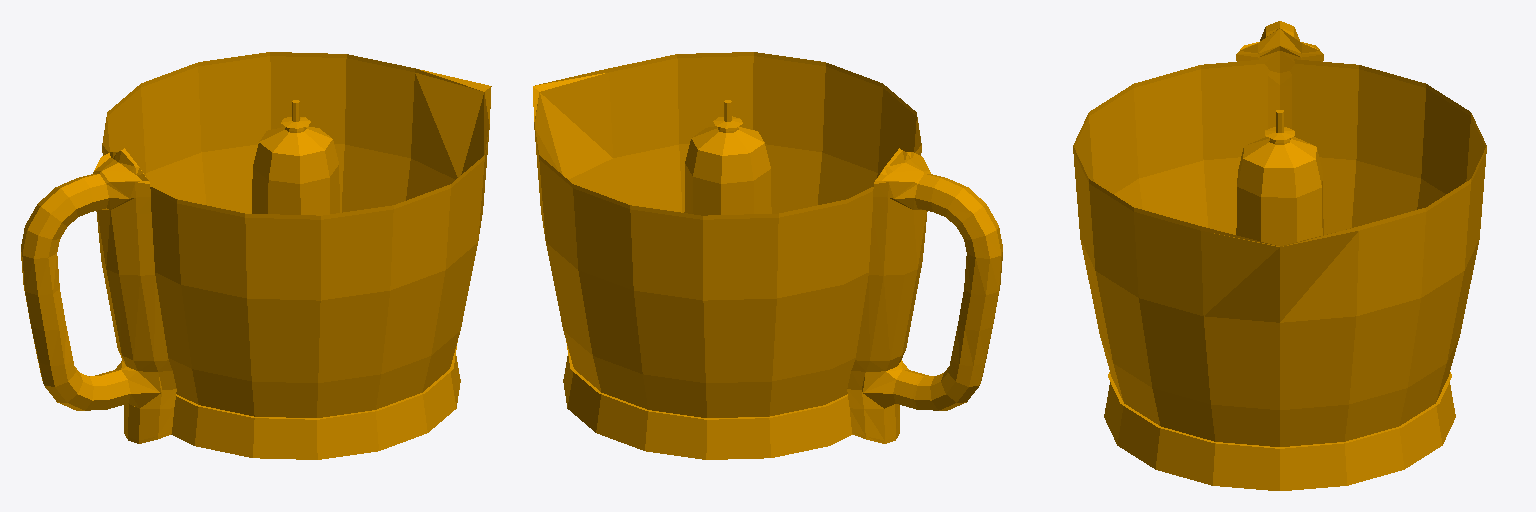
The robot description file, URDF, robot "blender_bowl":
<?xml version="1.0"?>

<robot name="blender_bowl">
  <link name="blender_bowl">
    <gravity>false</gravity>
    <inertial>
       <mass value="0.02"/>
       <inertia
        ixx="0.0007"
        ixy="0"
        ixz="0"
        iyy="0.0007"
        iyz="0"
        izz="0.007" />
    </inertial>
    <collision>
        <geometry><box size="0.0001 0.0001 0.0001" /></geometry>
          <surface>
            <contact>
              <collide_without_contact>true</collide_without_contact>
            </contact>
          </surface>
    </collision>
    <visual>
      <geometry>
        <mesh filename="package://milkshake_demo/models/blender_bowl/meshes/blender_bowl.dae"/>
      </geometry>
    </visual>
  </link>
</robot>

--- What the picture shows (computed from the rendered views, not written in the file) ---
The picture shows the robot from 3 angles, left to right: view 1: azimuth 30°, elevation 25°; view 2: azimuth 150°, elevation 25°; view 3: azimuth 270°, elevation 25°; orthographic projection.
Robot: blender_bowl — 1 links, 0 joints (none); root link blender_bowl; default pose: every joint at zero.
Links seen in each view (by area): view 1: blender_bowl; view 2: blender_bowl; view 3: blender_bowl.
Link boxes in pixels (<box>): blender_bowl: <box>21,52,491,459</box>; blender_bowl: <box>533,52,1002,459</box>; blender_bowl: <box>1073,21,1486,490</box>.
Bounding box of the posed robot: 0.2629 × 0.1897 × 0.1597 m (x, y, z).
1 mesh visuals loaded from 1 distinct referenced files (1 Collada DAE).